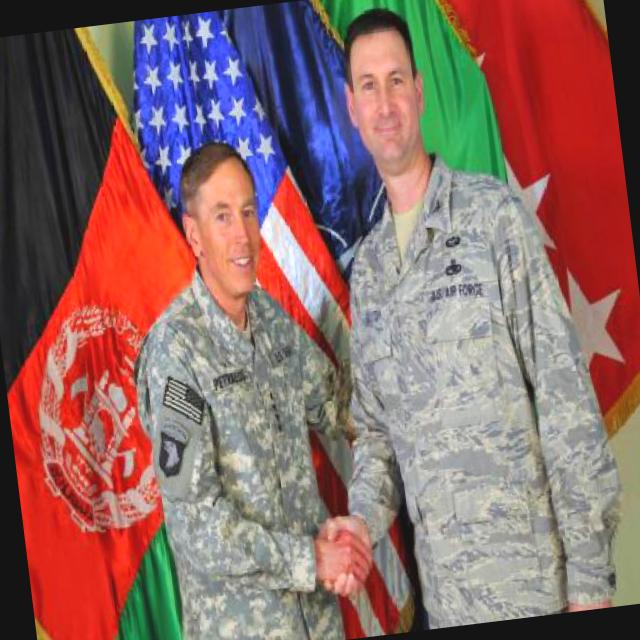Person: (306, 0, 629, 634), (106, 130, 385, 640)
